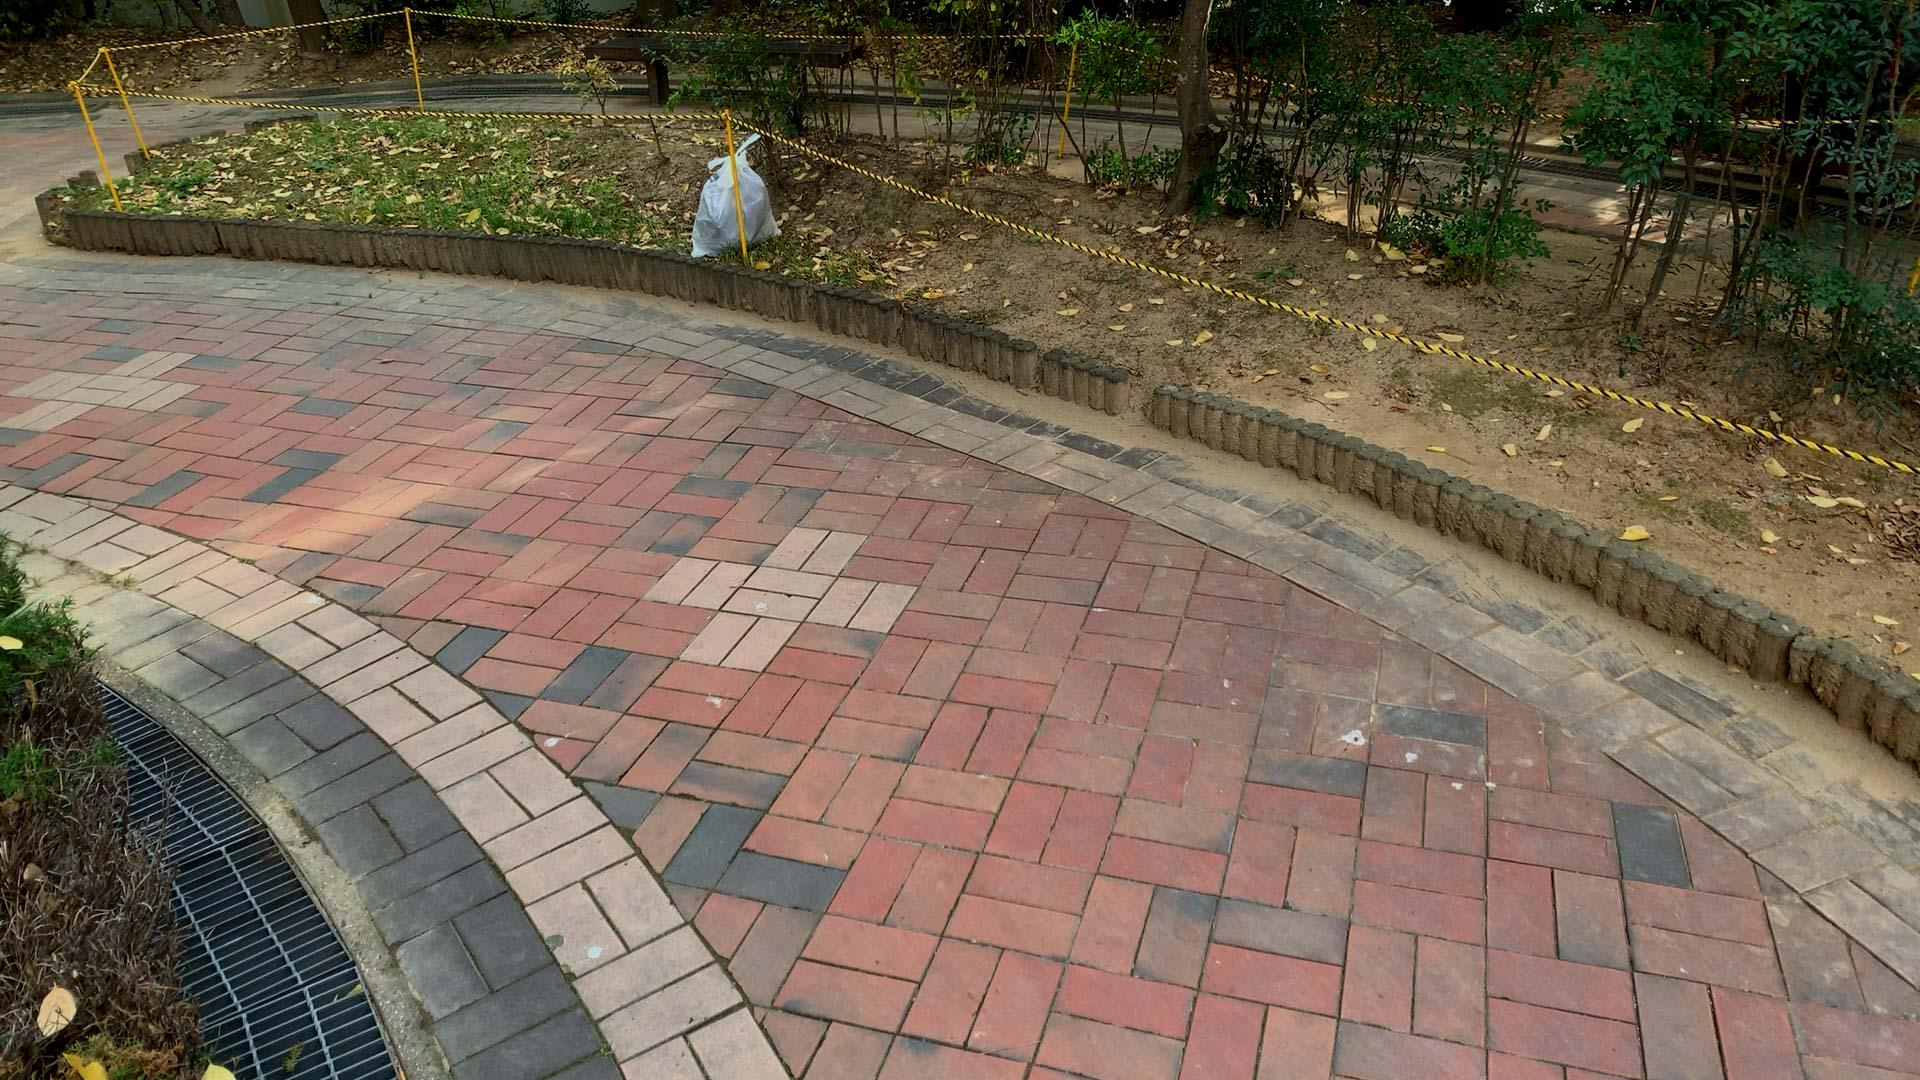white_bag: (683, 132, 800, 264)
